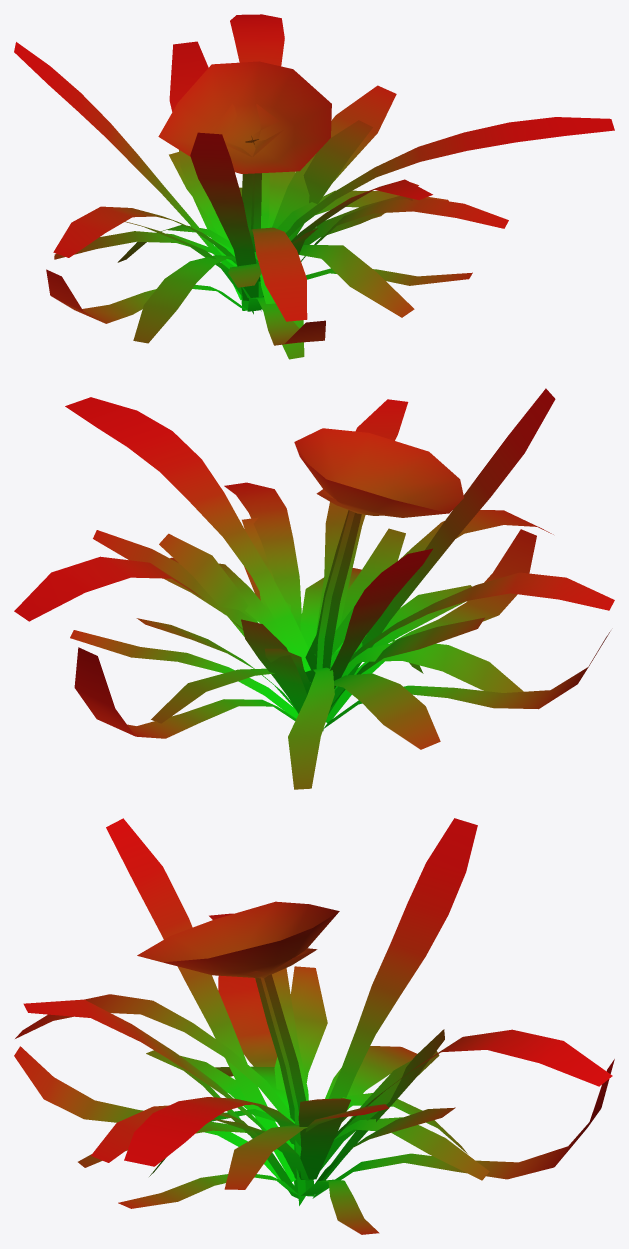
The model's file is Var3_LOD1.fbx.
3 views of the same model, one above another, from view 1: azimuth 30°, elevation 25°; view 2: azimuth 150°, elevation 25°; view 3: azimuth 270°, elevation 25° (orthographic). The views are drawn at different scales.
Parts seen in each view (by area): view 1: _42af_Var3_LOD1; view 2: _42af_Var3_LOD1; view 3: _42af_Var3_LOD1.
Part boxes in pixels (x1,y1,x2,y2): _42af_Var3_LOD1: [14, 14, 614, 359]; _42af_Var3_LOD1: [14, 388, 614, 789]; _42af_Var3_LOD1: [14, 818, 614, 1234].
Size of the model in its own units: 44.19 by 21.7 by 38.82.
